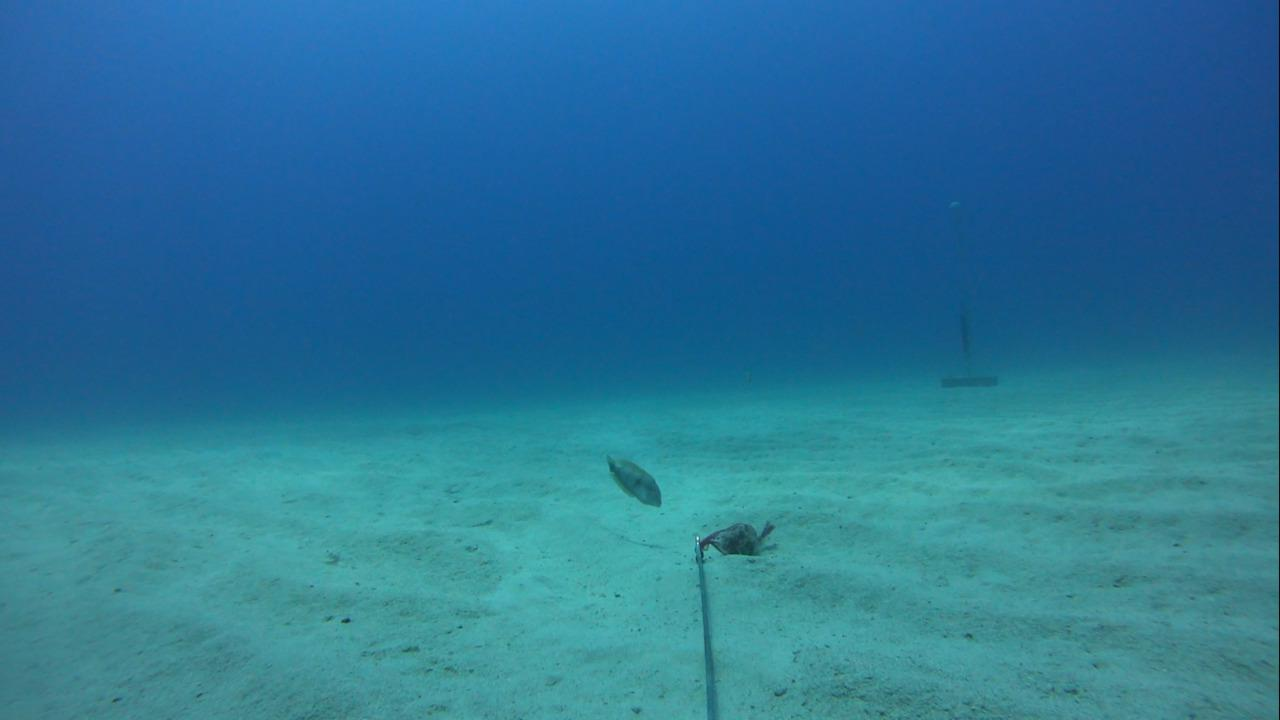raor: (594, 447, 669, 514)
